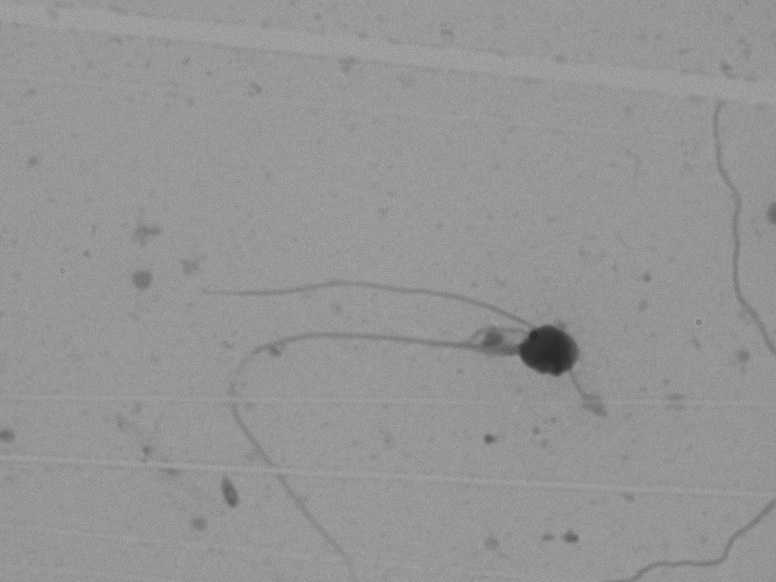Abnormal: (157, 273, 610, 566)
